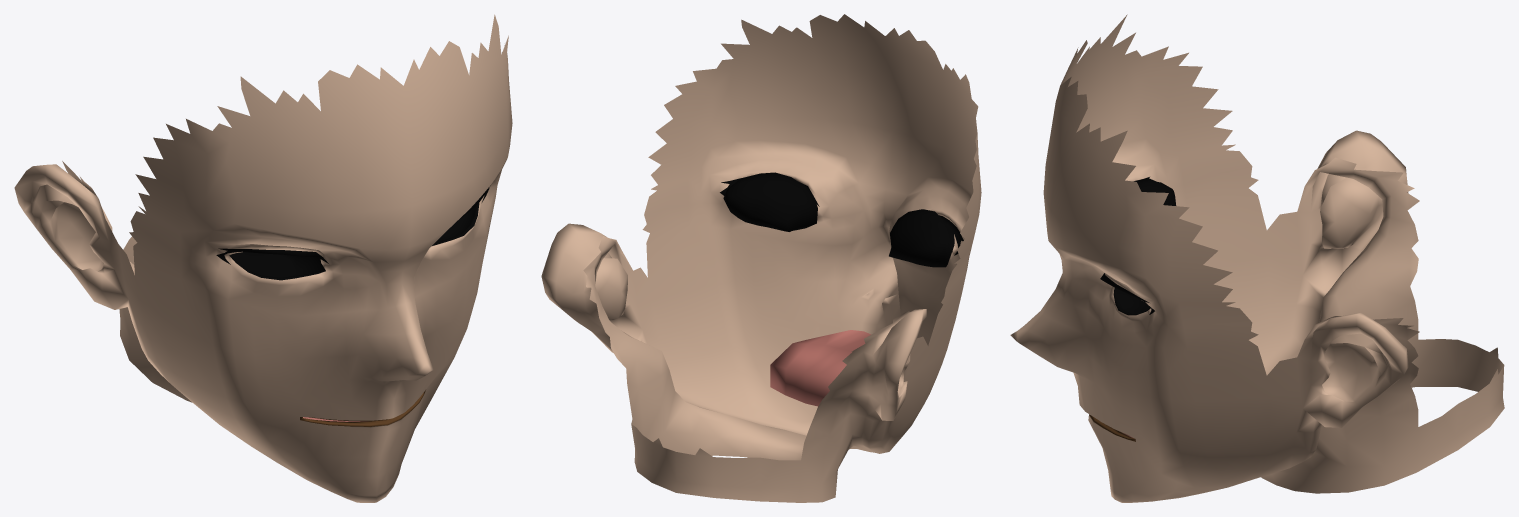
File: Yuji_01_head.fbx
3 renders of one model, left to right at view 1: azimuth 30°, elevation 25°; view 2: azimuth 150°, elevation 25°; view 3: azimuth 270°, elevation 25°, orthographic. The views are drawn at different scales.
Parts seen in each view (by area): view 1: Head; view 2: Head; view 3: Head.
Boxes of the visible parts, left/top/right/bottom form: Head: left=14, top=14, right=512, bottom=502; Head: left=541, top=14, right=981, bottom=502; Head: left=1010, top=14, right=1504, bottom=502.
Size of the model in its own units: 16.79 by 18 by 18.56.
